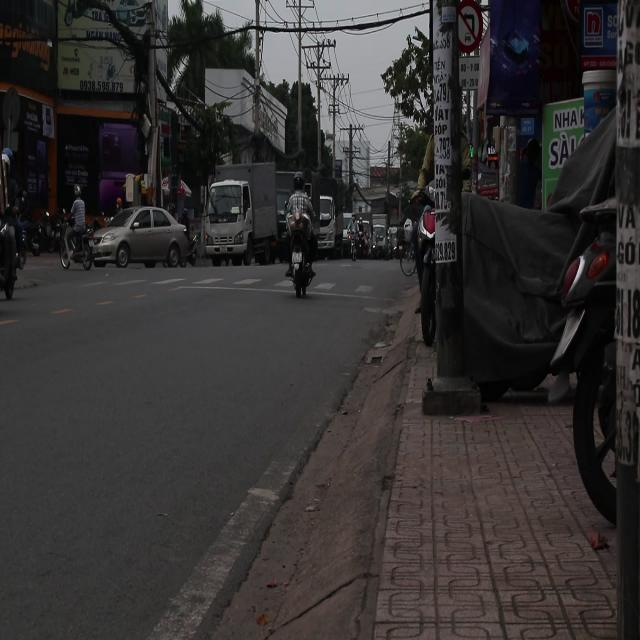car: (86, 208, 195, 269)
motorbike: (286, 223, 314, 299), (60, 218, 97, 272), (26, 209, 54, 254)
truck: (201, 163, 279, 266), (311, 177, 337, 257)
